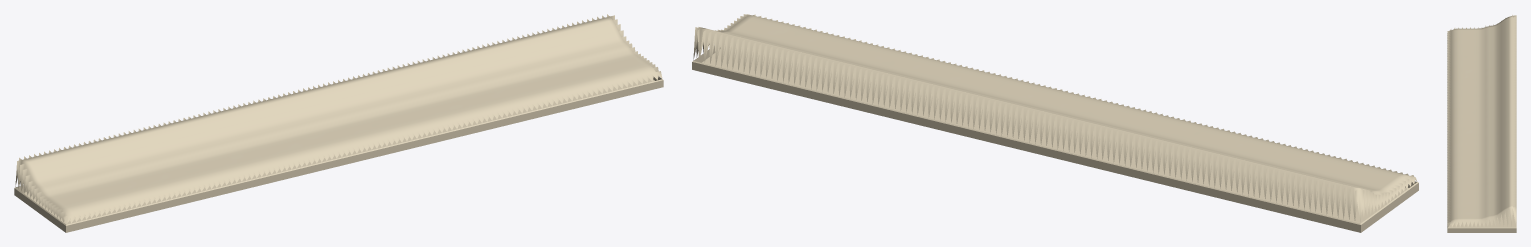
File: mahsulot.glb
The picture shows the model from 3 angles, left to right: view 1: azimuth 30°, elevation 25°; view 2: azimuth 150°, elevation 25°; view 3: azimuth 270°, elevation 25°; orthographic projection. The views are drawn at different scales.
Parts seen in each view (by area): view 1: mahsulot; view 2: mahsulot; view 3: mahsulot.
Part boxes in pixels (left/top/right/bottom): mahsulot: left=14, top=14, right=663, bottom=232; mahsulot: left=692, top=14, right=1418, bottom=232; mahsulot: left=1447, top=15, right=1516, bottom=232.
Size of the model in its own units: 1.2 by 0.07 by 0.18.
